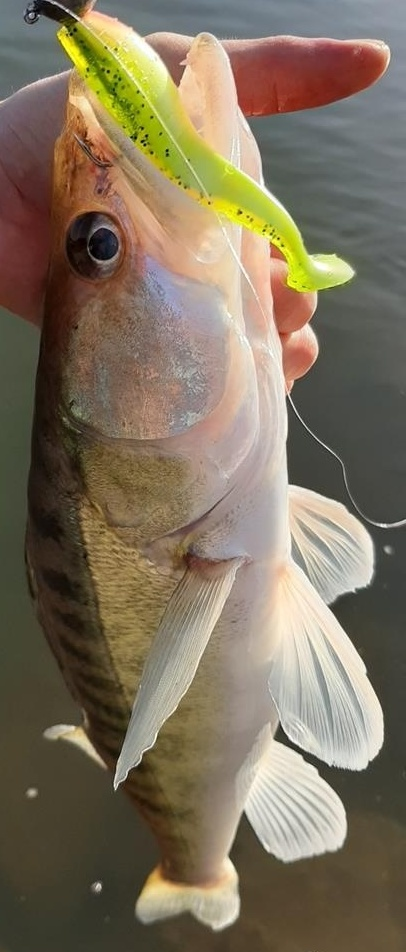Sander lucioperca: (20, 20, 386, 932)
